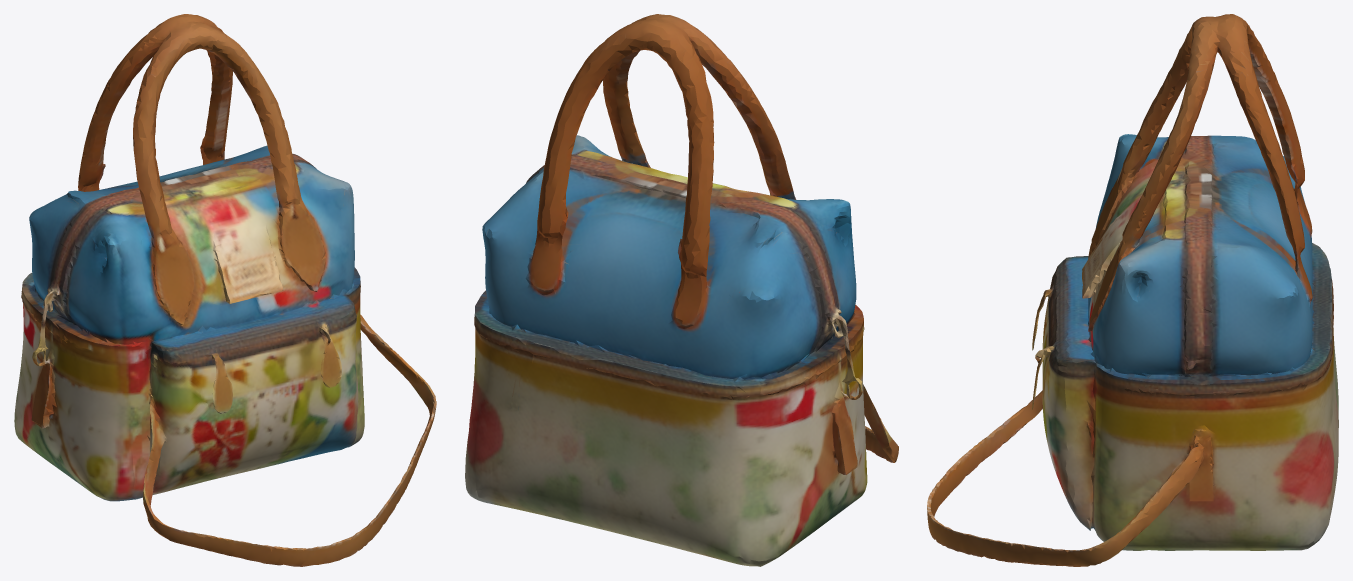
3 renders of one model, left to right at view 1: azimuth 30°, elevation 25°; view 2: azimuth 150°, elevation 25°; view 3: azimuth 270°, elevation 25°, orthographic. The views are drawn at different scales.
Parts seen in each view (by area): view 1: ClothSatchel; view 2: ClothSatchel; view 3: ClothSatchel.
Boxes of the visible parts, <box> form: ClothSatchel: <box>14,14,436,566</box>; ClothSatchel: <box>465,14,898,566</box>; ClothSatchel: <box>927,14,1338,566</box>.
Size of the model in its own units: 1.58 by 1.9 by 1.42.
1 material, 1 textured.
